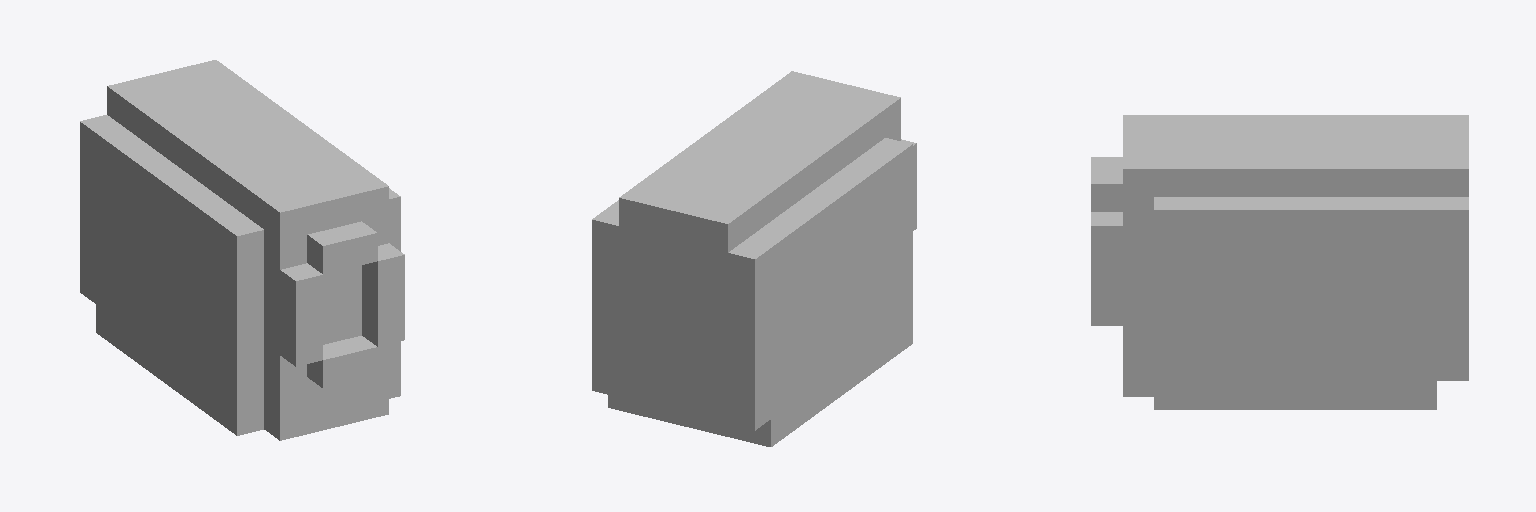
Rendered from Droid_head.obj.
The picture shows the model from 3 angles: view 1: azimuth 30°, elevation 25°; view 2: azimuth 150°, elevation 25°; view 3: azimuth 270°, elevation 25°; orthographic projection.
Visible parts, largest first — view 1: object 1; view 2: object 1; view 3: object 1.
Part boxes in pixels (left/top/right/bottom): object 1: left=80, top=60, right=404, bottom=440; object 1: left=592, top=71, right=916, bottom=446; object 1: left=1091, top=115, right=1468, bottom=409.
Bounding box in the file's own units: 0.6 × 0.8 × 1.2.